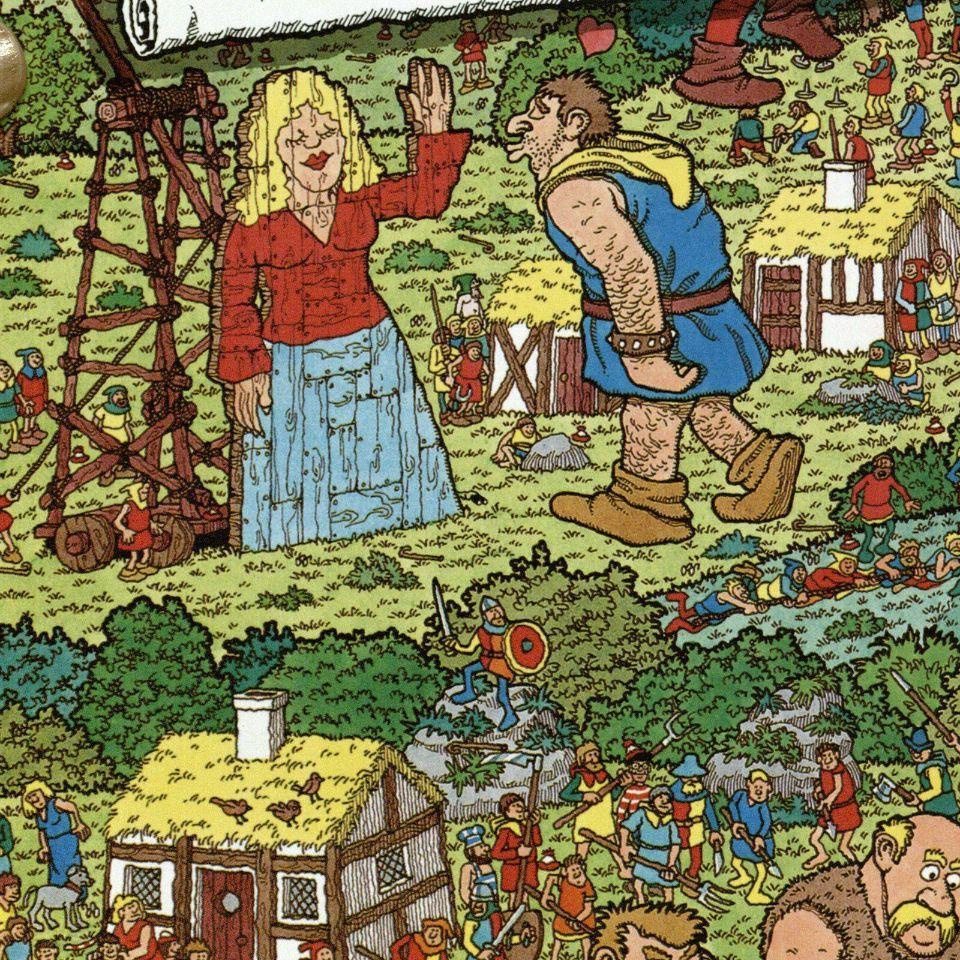waldo: (623, 741, 657, 784)
